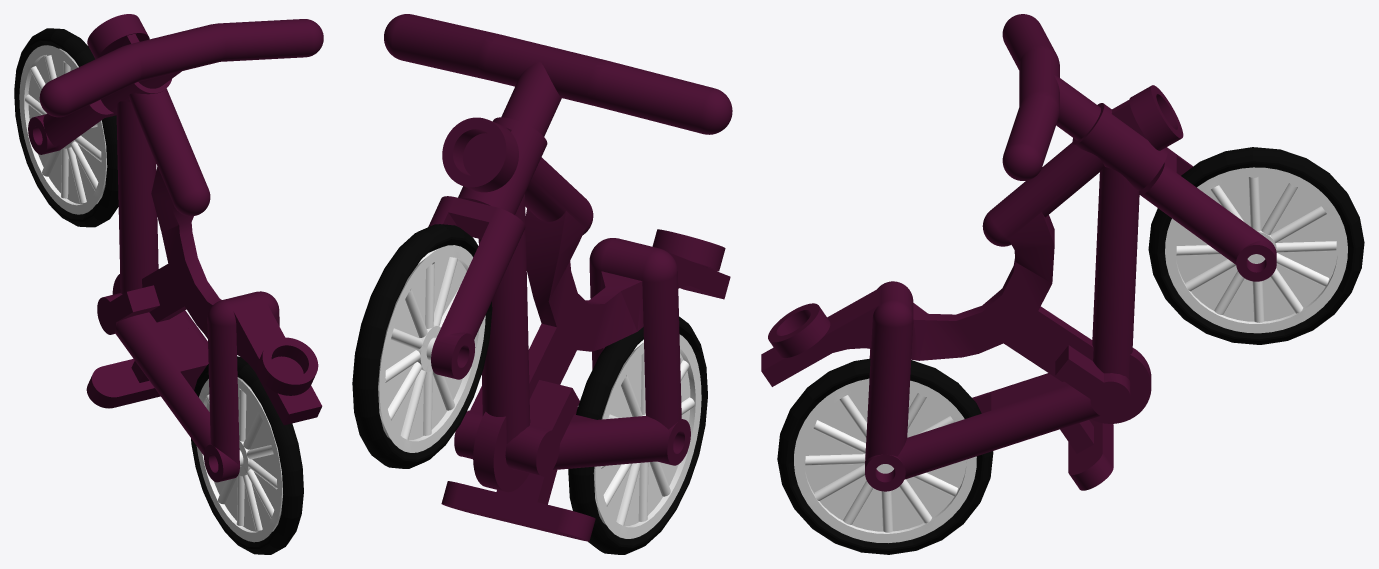
Rendered from bicycle_magenta.obj.
The picture shows the model from 3 angles, left to right: view 1: azimuth 30°, elevation 25°; view 2: azimuth 150°, elevation 25°; view 3: azimuth 270°, elevation 25°; orthographic projection. The views are drawn at different scales.
Visible parts, largest first — view 1: bicycle_magenta; view 2: bicycle_magenta; view 3: bicycle_magenta.
Boxes of the visible parts, bbox=[...] form: bicycle_magenta: bbox=[14, 14, 323, 554]; bicycle_magenta: bbox=[352, 14, 732, 554]; bicycle_magenta: bbox=[761, 14, 1364, 554].
Bounding box in the file's own units: 66.82 × 105 × 119.
